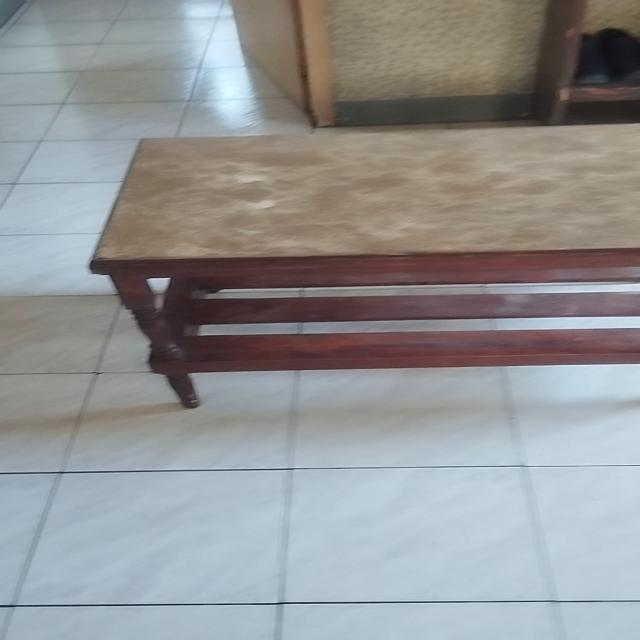table: (79, 118, 640, 410)
